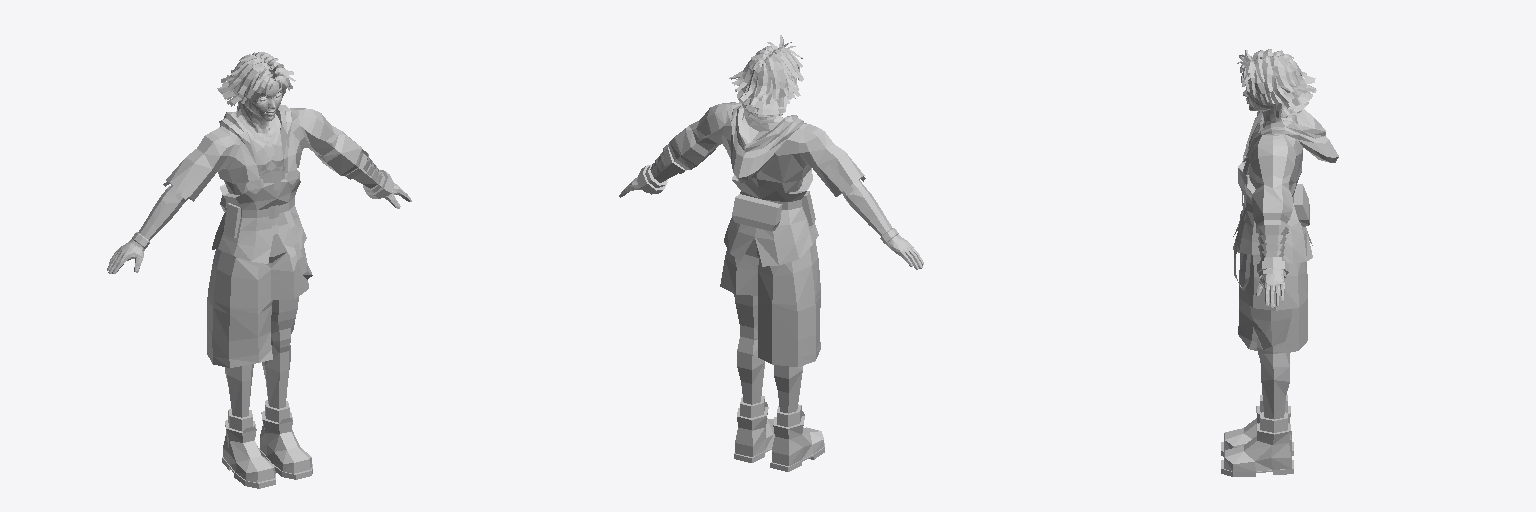
Rendered from Tidus - HP.obj.
The picture shows the model from 3 angles: view 1: azimuth 30°, elevation 25°; view 2: azimuth 150°, elevation 25°; view 3: azimuth 270°, elevation 25°; orthographic projection.
Parts seen in each view (by area): view 1: pants_glove_socks, jacket_shoes_gloves_gauntlet, skin, hair, blueshoulder_thing, chains, red_cloth_transparency_thing; view 2: pants_glove_socks, jacket_shoes_gloves_gauntlet, skin, hair, chains, blueshoulder_thing, red_cloth_transparency_thing; view 3: jacket_shoes_gloves_gauntlet, pants_glove_socks, hair, skin, blueshoulder_thing, red_cloth_transparency_thing, chains, eyes_blue_stuff.
Part boxes in pixels (x1,y1,x2,y2): pants_glove_socks: (107,125,378,431); jacket_shoes_gloves_gauntlet: (163,104,411,488); skin: (138,67,297,417); hair: (217,52,295,115); blueshoulder_thing: (290,108,345,162); chains: (220,112,394,279); red_cloth_transparency_thing: (321,132,362,175); pants_glove_socks: (653,140,923,426); jacket_shoes_gloves_gauntlet: (619,105,865,471); skin: (735,71,891,413); hair: (729,35,803,116); chains: (637,112,783,231); blueshoulder_thing: (686,102,741,156); red_cloth_transparency_thing: (669,128,710,169); jacket_shoes_gloves_gauntlet: (1221,109,1338,476); pants_glove_socks: (1233,134,1312,432); hair: (1237,49,1316,117); skin: (1243,60,1297,419); blueshoulder_thing: (1251,134,1295,194); red_cloth_transparency_thing: (1252,189,1292,224); chains: (1234,104,1309,290); eyes_blue_stuff: (1250,260,1292,321).
Size of the model in its own units: 14010 by 18151 by 4763.